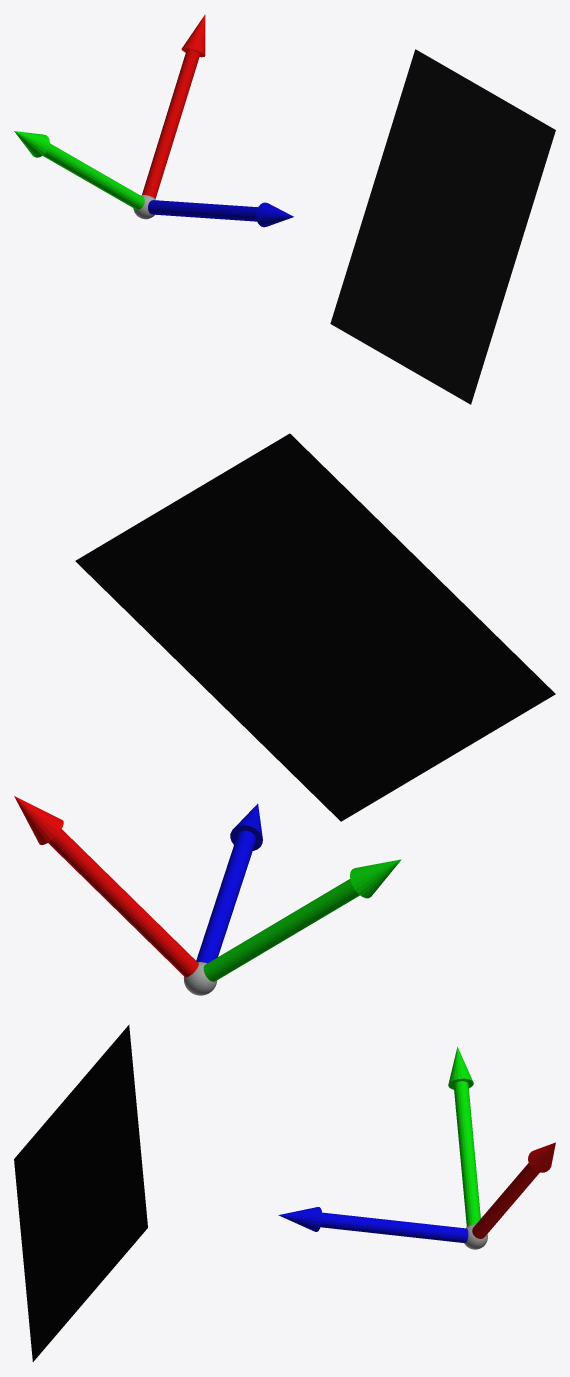
The picture shows the model from 3 angles, top to bottom: view 1: azimuth 30°, elevation 25°; view 2: azimuth 150°, elevation 25°; view 3: azimuth 270°, elevation 25°; orthographic projection. The views are drawn at different scales.
Bounding box in the file's own units: 0.2727 × 0.2153 × 0.317.
